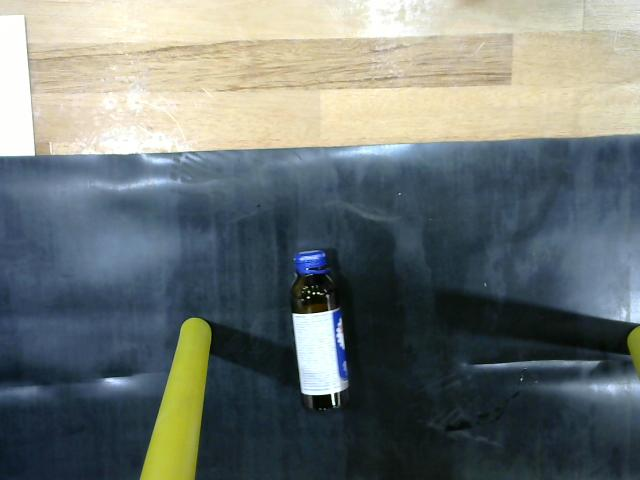glass: (279, 237, 354, 411)
